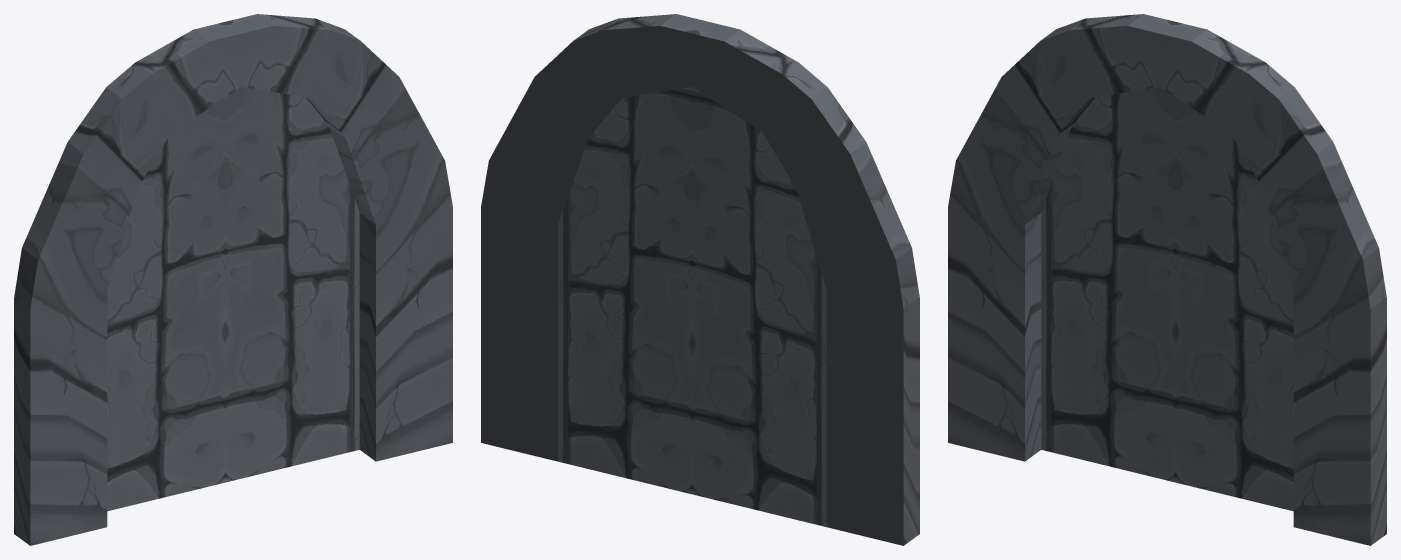
The model's file is Pintu wak.fbx.
3 views of the same model, side by side, from view 1: azimuth 30°, elevation 25°; view 2: azimuth 150°, elevation 25°; view 3: azimuth 330°, elevation 25° (orthographic).
Visible parts, largest first — view 1: Plane; view 2: Plane; view 3: Plane.
Part boxes in pixels (x1,y1,x2,y2): Plane: (14, 14, 452, 545); Plane: (481, 14, 919, 545); Plane: (948, 14, 1386, 545).
Bounding box in the file's own units: 280 × 292 × 18.61.
